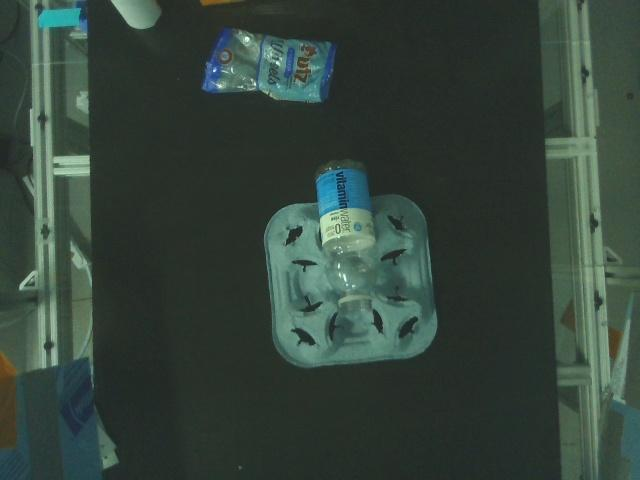cardboard: (262, 190, 441, 371), (107, 0, 168, 32), (193, 0, 251, 11)
plastic: (197, 25, 341, 106), (313, 155, 382, 319)
